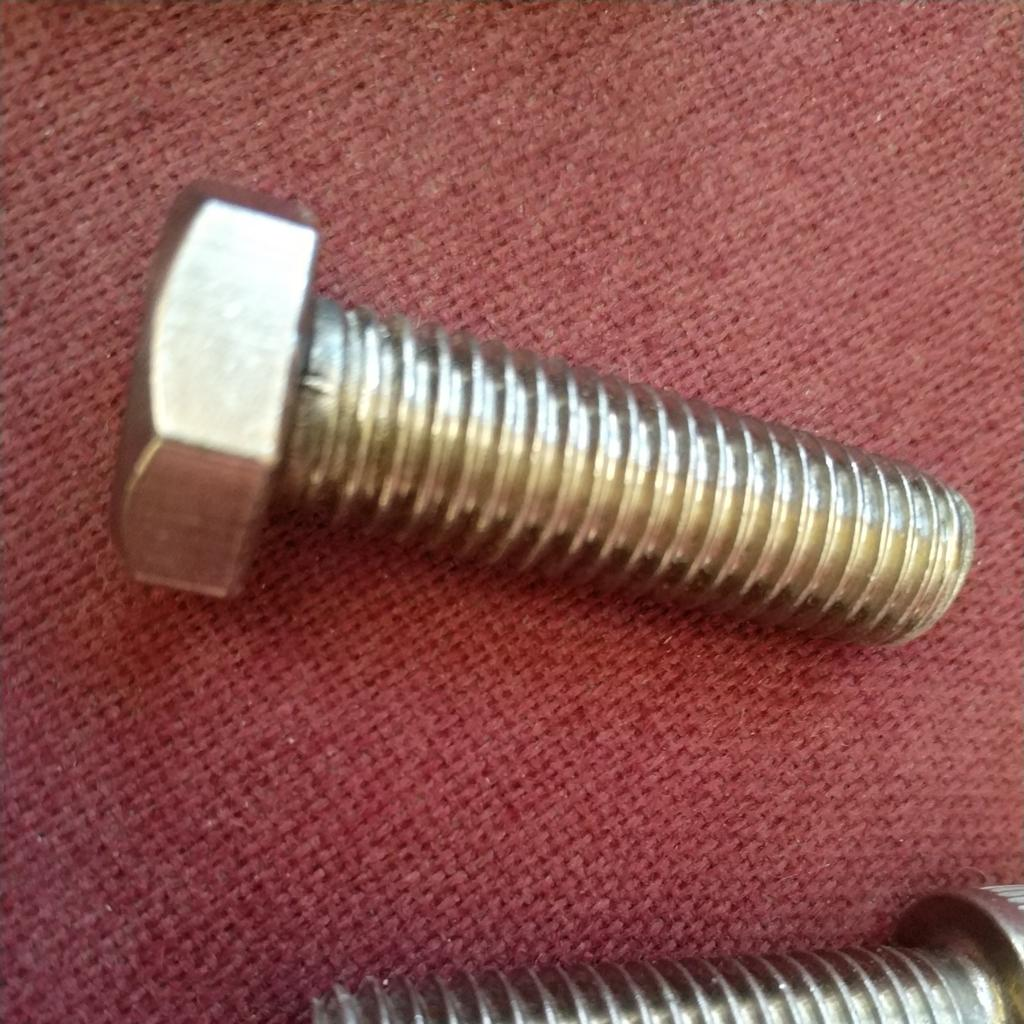screwtype1silver: (265, 853, 1024, 1023)
screwtype2silver: (103, 170, 974, 672)
